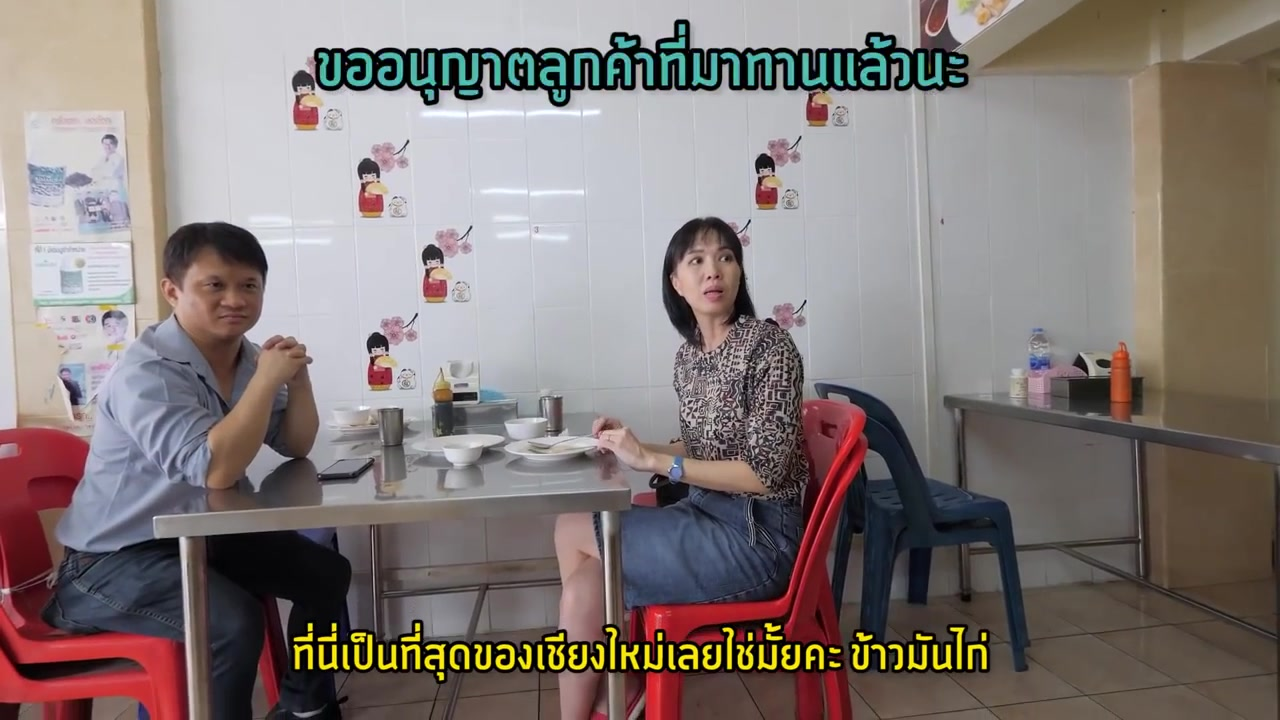text-label: (305, 19, 972, 110), (287, 619, 993, 685)
